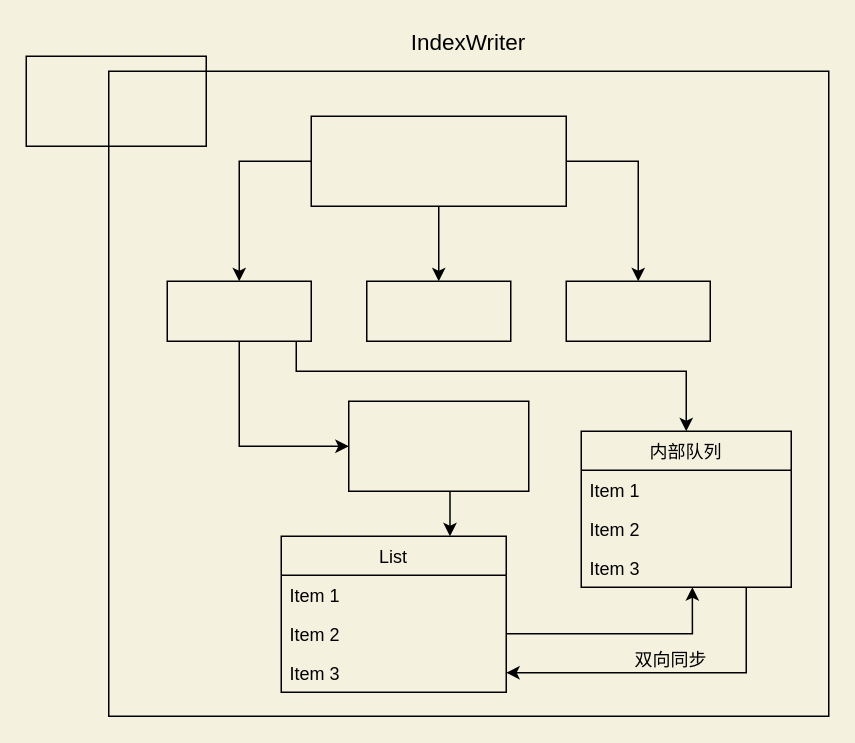
Some shapes in this 855 by 743 pixel diagram are drawn without their labels. Each missing label, with the box of its shape:
DocumentsWriter: (310, 115, 566, 206)
全局删除队列: (347, 400, 529, 491)
